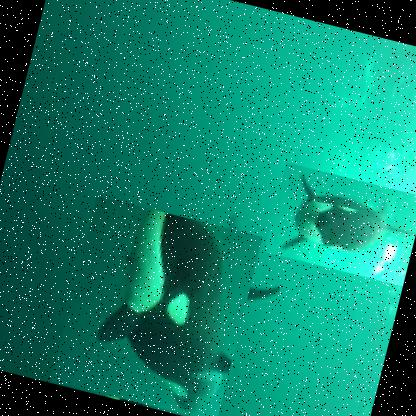killer_whale: (49, 194, 263, 415), (263, 161, 415, 288)
